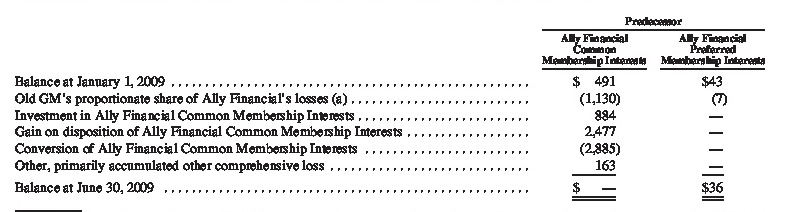table: (0, 0, 785, 212)
